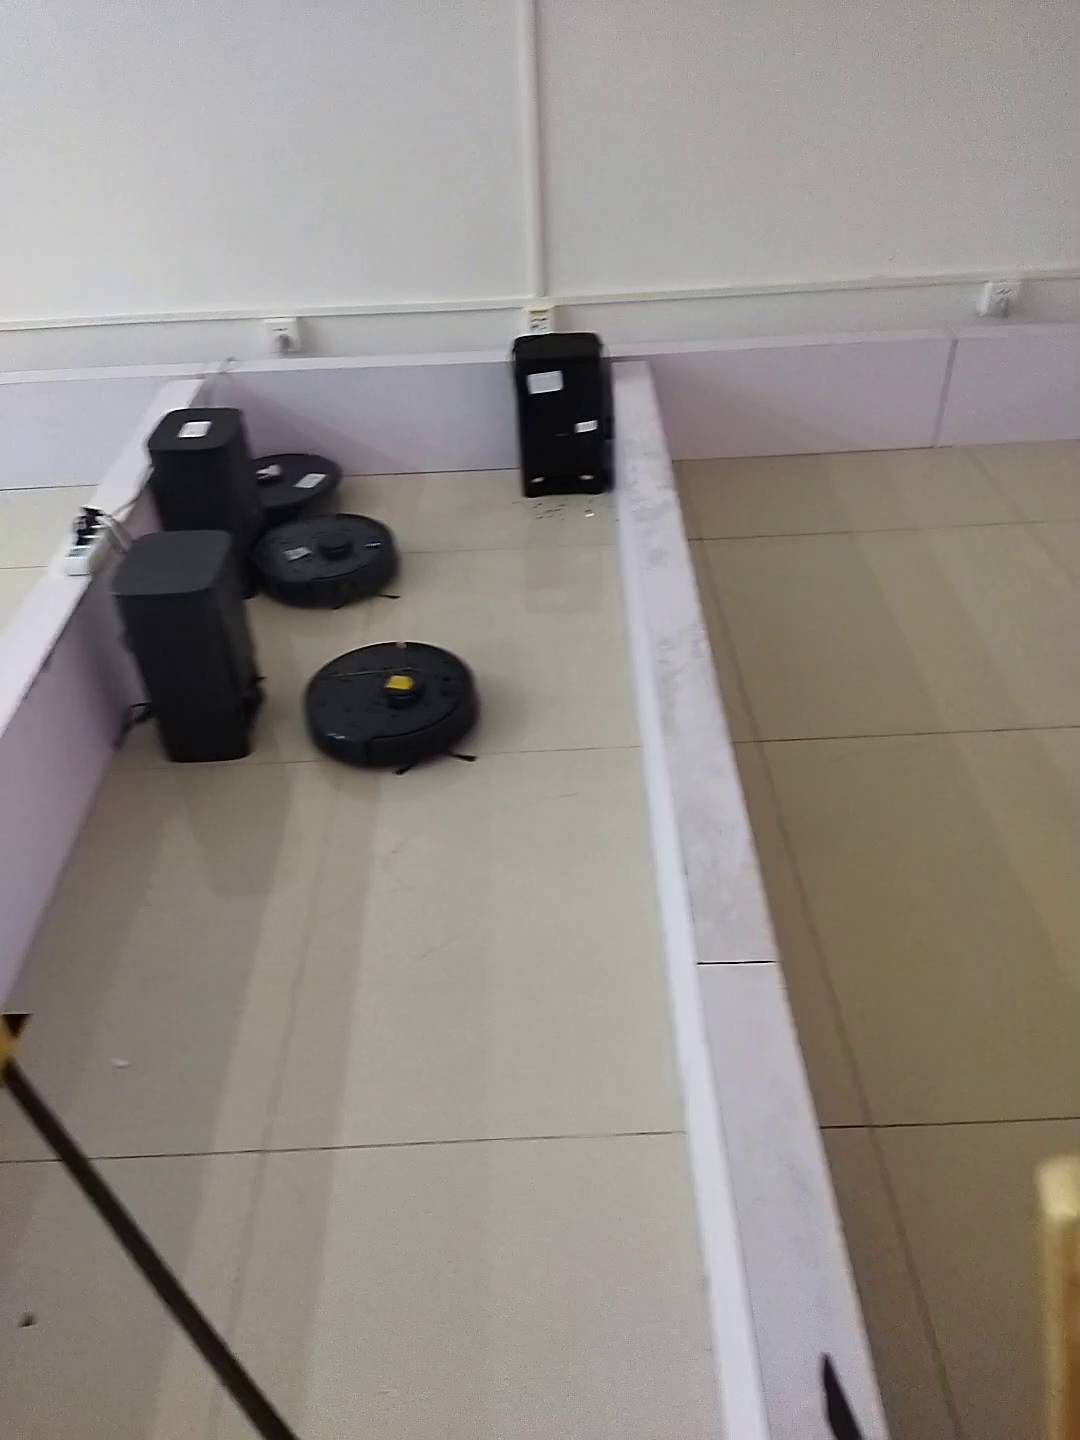dust collecting barrel: (110, 530, 269, 763), (149, 409, 272, 592), (514, 333, 613, 499)
